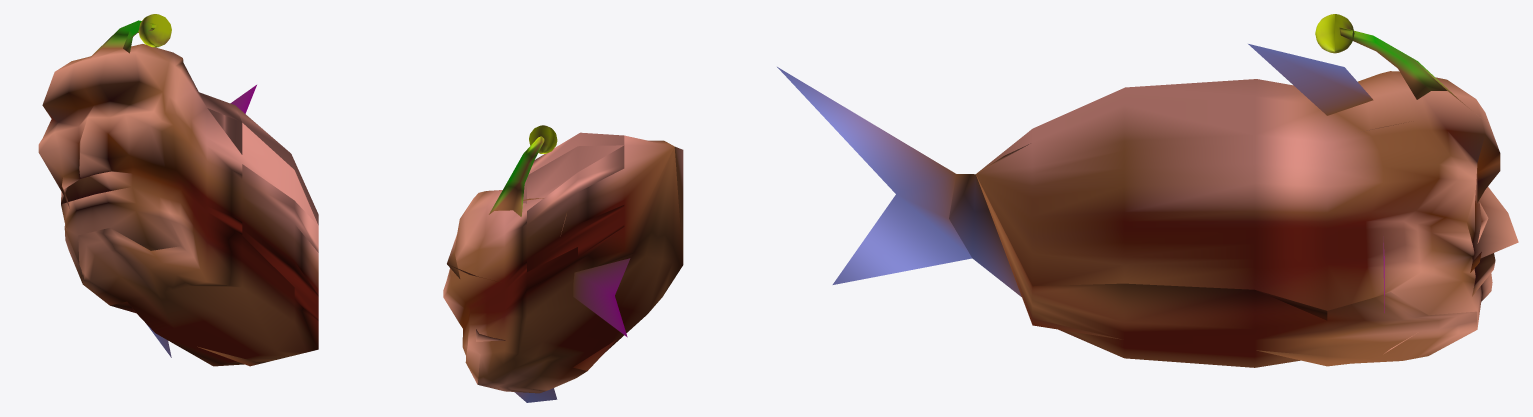
File: pondman.glb
3 renders of one model, left to right at view 1: azimuth 30°, elevation 25°; view 2: azimuth 150°, elevation 25°; view 3: azimuth 270°, elevation 25°, orthographic. The views are drawn at different scales.
Visible parts, largest first — view 1: Fishman; view 2: Fishman; view 3: Fishman.
Part boxes in pixels (x1,y1,x2,y2): Fishman: [38, 14, 318, 366]; Fishman: [443, 125, 683, 402]; Fishman: [777, 14, 1518, 367].
Bounding box in the file's own units: 0.8313 × 1.1 × 1.9.
